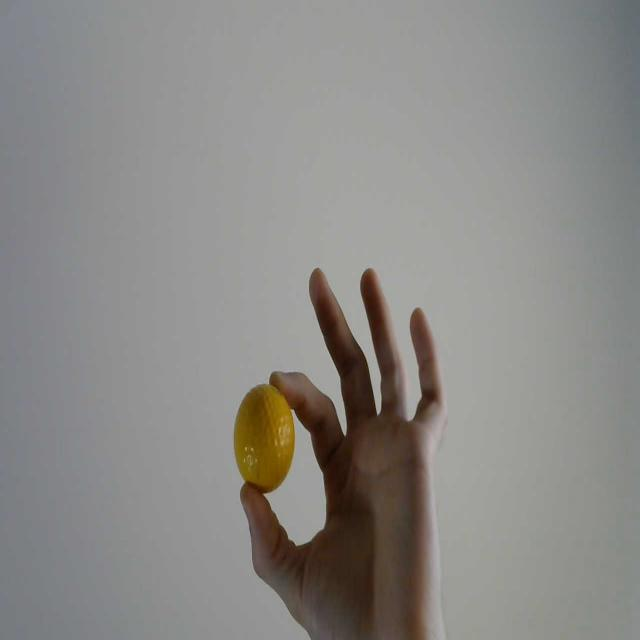golfball: (234, 383, 296, 492)
